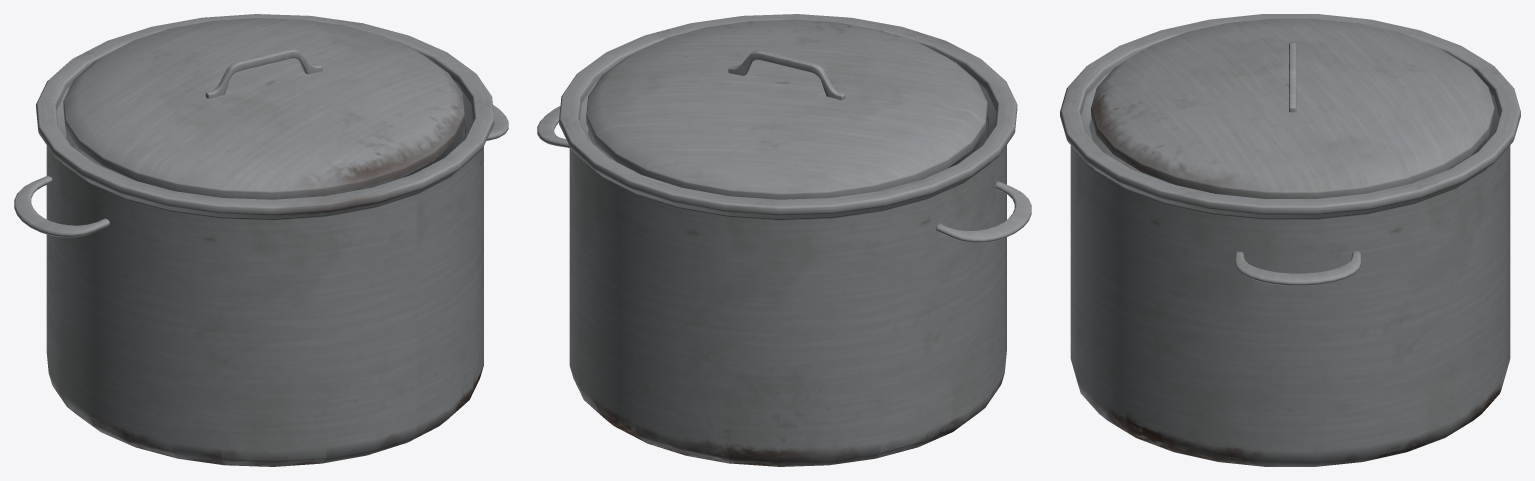
The model's file is SM_Cooking_Pot.fbx.
3 renders of one model, left to right at view 1: azimuth 30°, elevation 25°; view 2: azimuth 150°, elevation 25°; view 3: azimuth 270°, elevation 25°, orthographic.
Parts seen in each view (by area): view 1: SM_Cooking_Pot_LOD0; view 2: SM_Cooking_Pot_LOD0; view 3: SM_Cooking_Pot_LOD0.
Boxes of the visible parts, x1,y1,x2,y2 form: SM_Cooking_Pot_LOD0: (14, 14, 508, 466); SM_Cooking_Pot_LOD0: (537, 14, 1031, 466); SM_Cooking_Pot_LOD0: (1060, 14, 1520, 466).
Bounding box in the file's own units: 40.6 × 34.32 × 26.96.
1 material, 1 textured.
